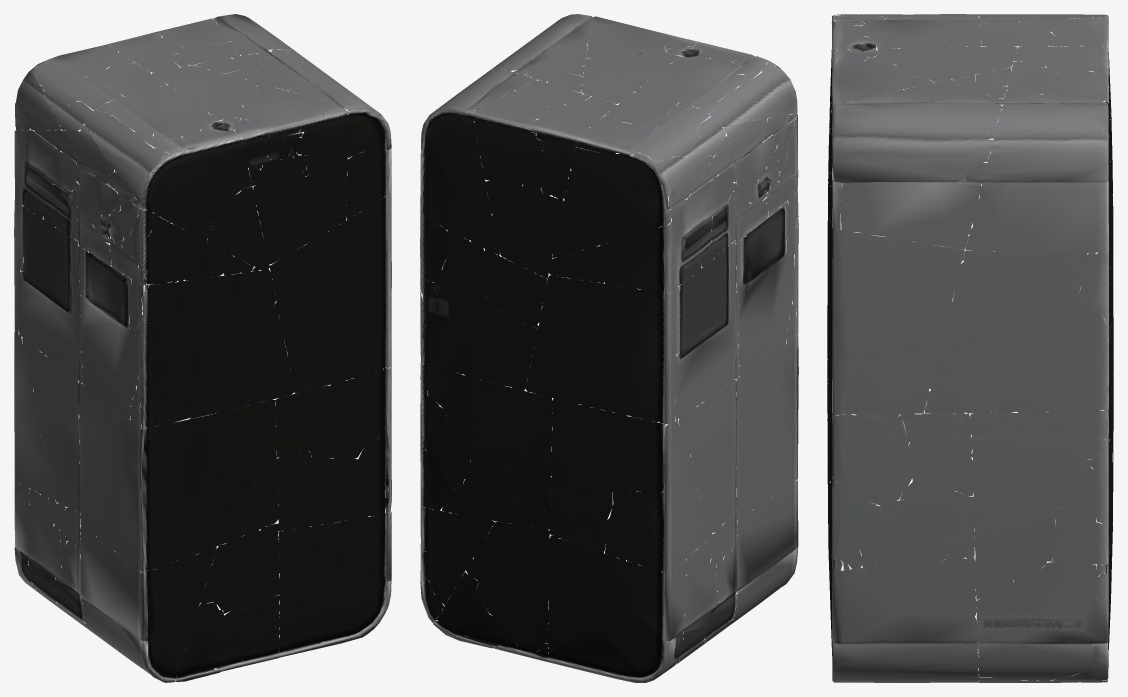
The model's file is tripo-phone.glb.
The picture shows the model from 3 angles, left to right: view 1: azimuth 30°, elevation 25°; view 2: azimuth 150°, elevation 25°; view 3: azimuth 270°, elevation 25°; orthographic projection. The views are drawn at different scales.
Parts seen in each view (by area): view 1: tripo_node_cf228230-24ae-4eb1-8b85-b35b23a9280d; view 2: tripo_node_cf228230-24ae-4eb1-8b85-b35b23a9280d; view 3: tripo_node_cf228230-24ae-4eb1-8b85-b35b23a9280d.
Boxes of the visible parts, x1=… form: tripo_node_cf228230-24ae-4eb1-8b85-b35b23a9280d: x1=14, y1=14, x2=391, y2=682; tripo_node_cf228230-24ae-4eb1-8b85-b35b23a9280d: x1=420, y1=14, x2=798, y2=682; tripo_node_cf228230-24ae-4eb1-8b85-b35b23a9280d: x1=827, y1=14, x2=1113, y2=682.
Bounding box in the file's own units: 0.4869 × 0.98 × 0.4432.
Materials: 1 (1 with a texture image).
